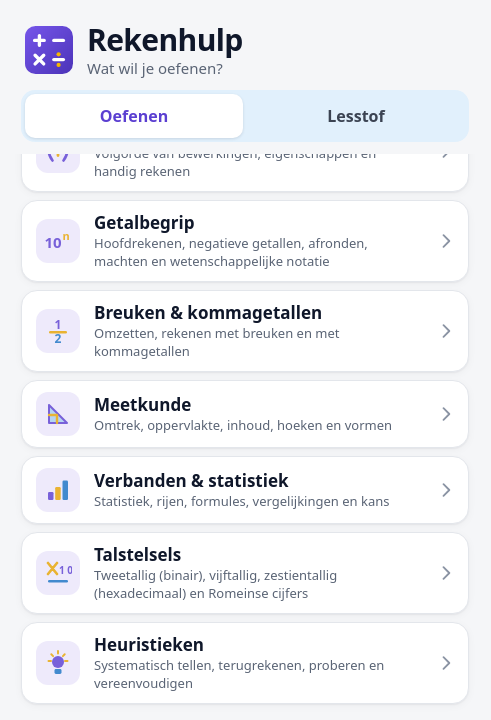
Test: App › offers Verbanden & statistiek with its topics and starts a session
This screenshot has width=491, height=720.
(page scrolled)
Click the button that starts with "Verbanden & statistiek" at (245, 490), box [21,456,469,524]
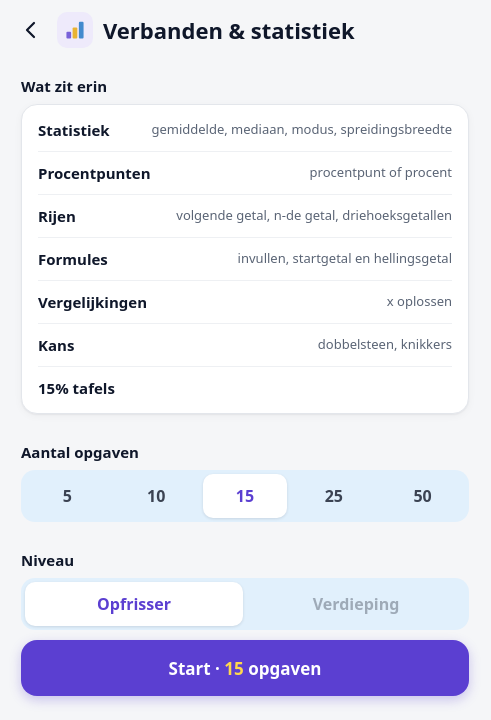
Expected: the heading "Verbanden & statistiek" is shown, [103,16,355,44]
Now the text "Procentpunten" is shown, box [38,163,151,183]
Click the button "Start · 15 opgaven" at (245, 668), box [21,640,469,696]
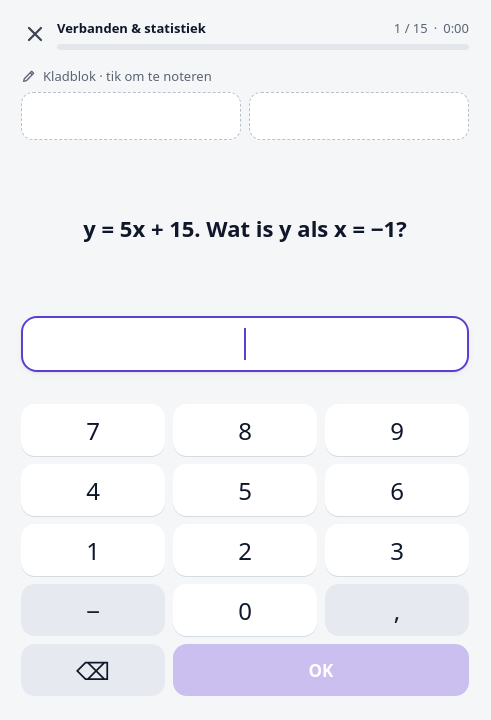
Now the text "1 / 15" is shown, box [394,18,428,38]
